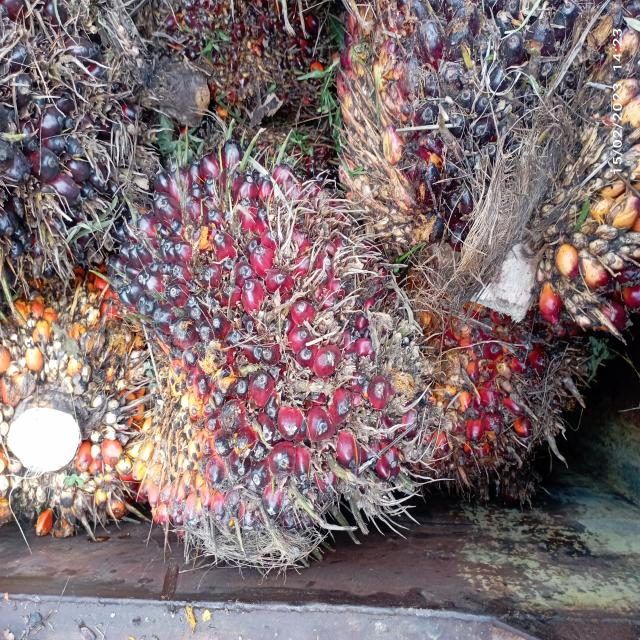fraksi 1: (82, 126, 470, 599)
